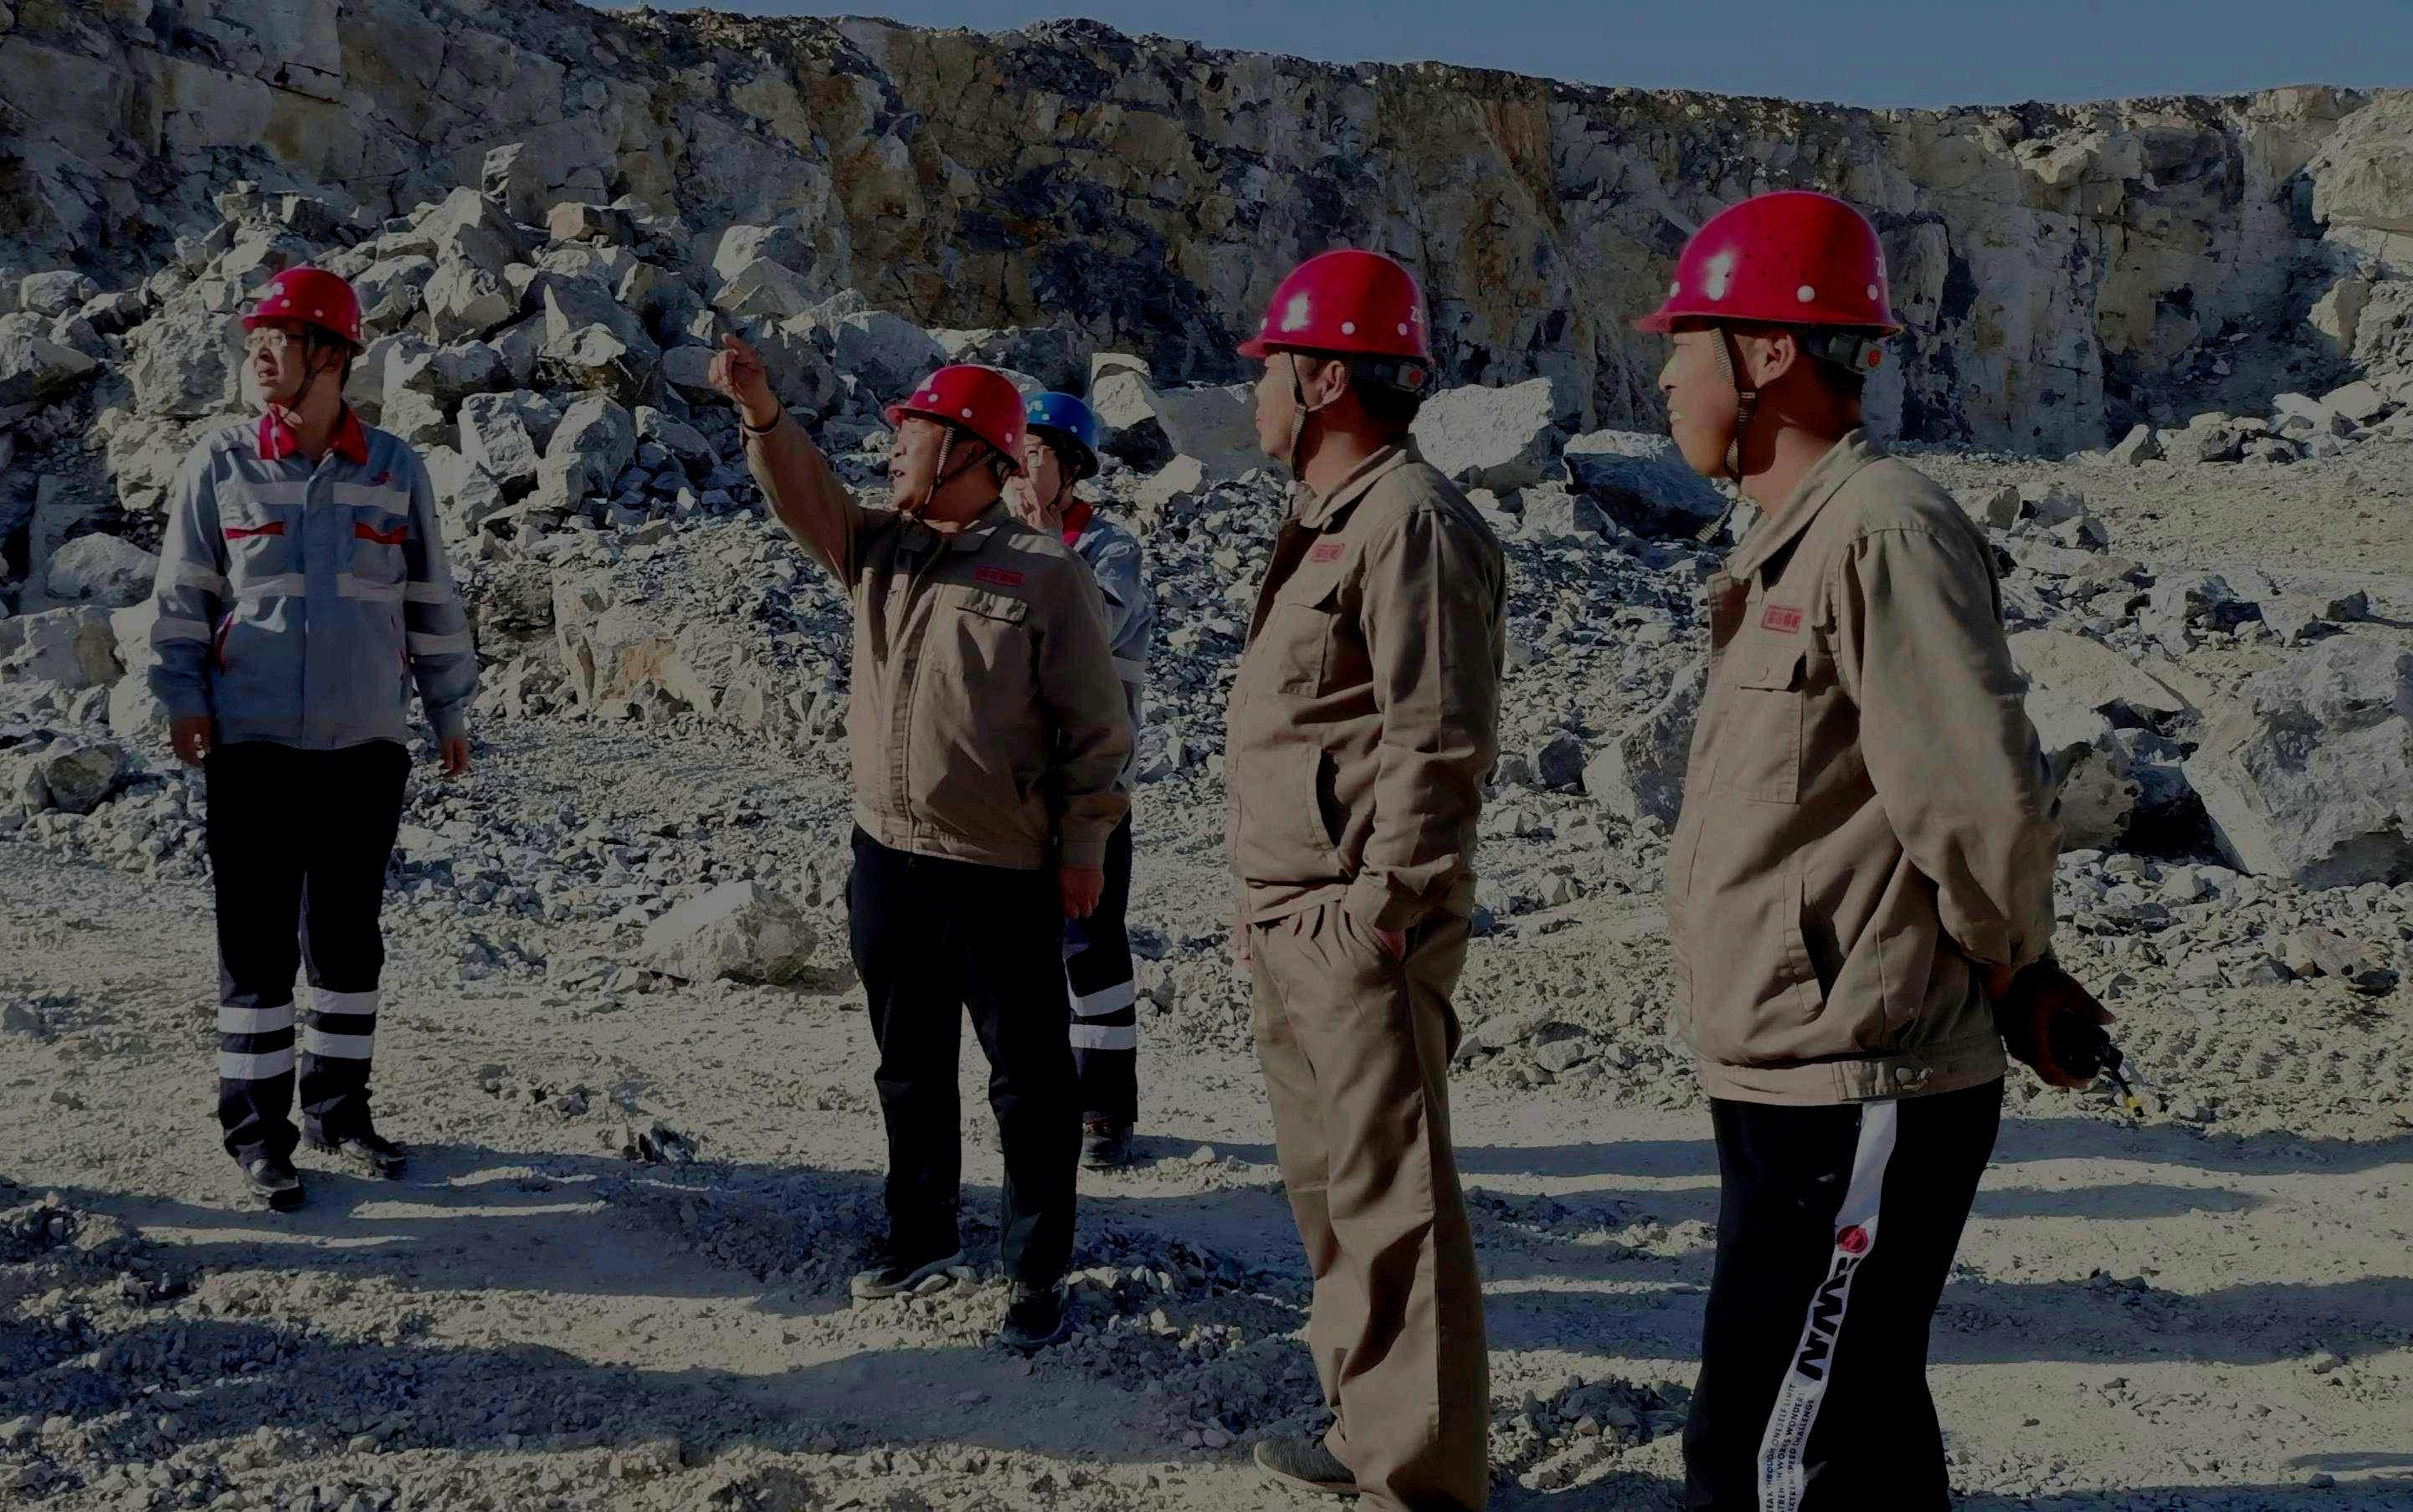helmet: (1632, 190, 1903, 481), (1237, 247, 1434, 458), (882, 362, 1030, 514), (239, 265, 366, 404), (1005, 388, 1099, 516)
